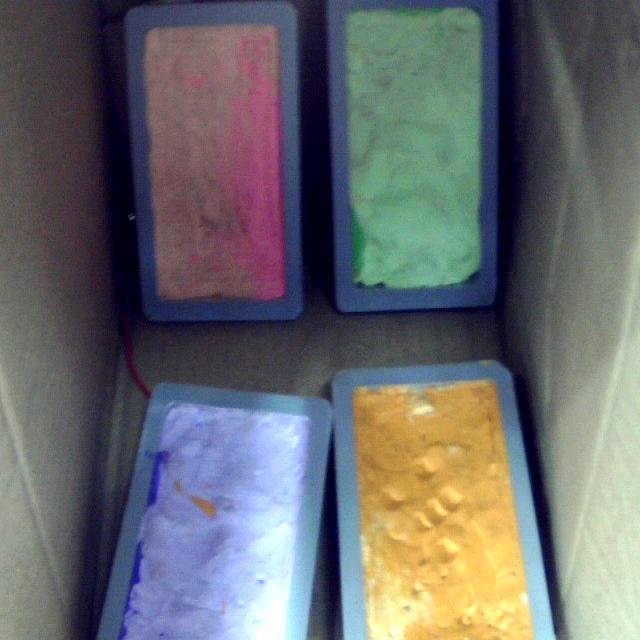block: (87, 378, 336, 640), (332, 361, 560, 638), (125, 6, 302, 324), (327, 3, 499, 314)
